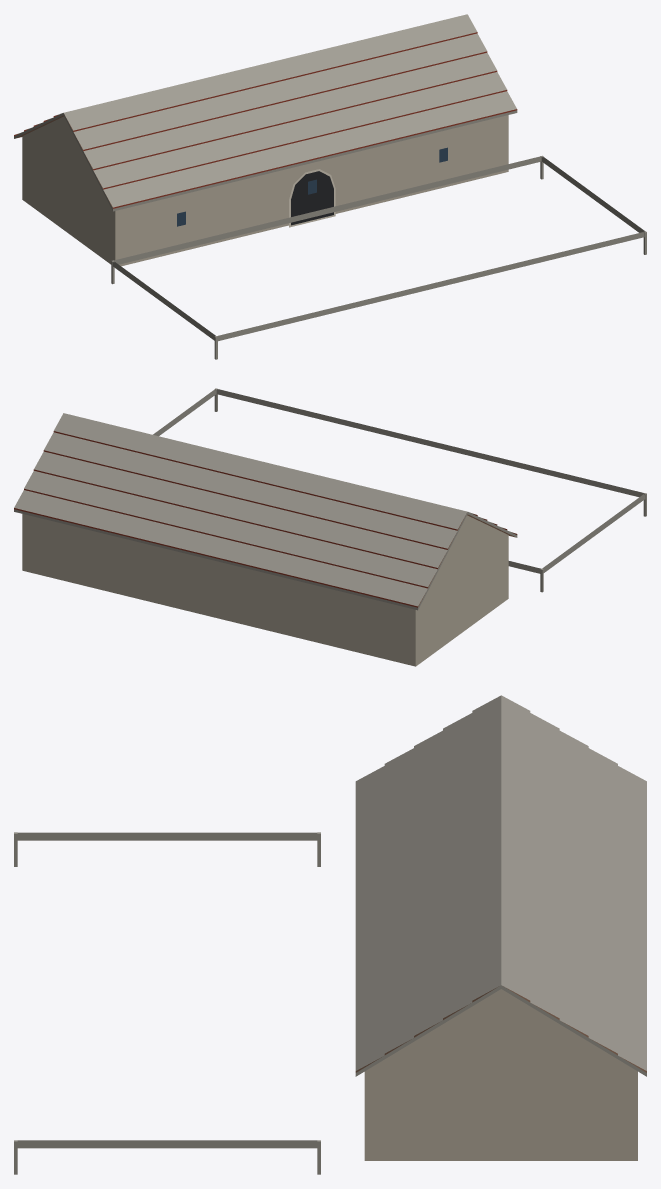
The model's file is bergerie.glb.
The picture shows the model from 3 angles, top to bottom: view 1: azimuth 30°, elevation 25°; view 2: azimuth 150°, elevation 25°; view 3: azimuth 270°, elevation 25°; orthographic projection. The views are drawn at different scales.
Parts seen in each view (by area): view 1: bergerie; view 2: bergerie; view 3: bergerie.
Boxes of the visible parts, bbox=[...] form: bergerie: bbox=[14, 14, 646, 359]; bergerie: bbox=[14, 388, 646, 666]; bergerie: bbox=[14, 695, 646, 1174].
Bounding box in the file's own units: 24.12 × 6.64 × 20.86.
Materials: 1 (1 with a texture image).
